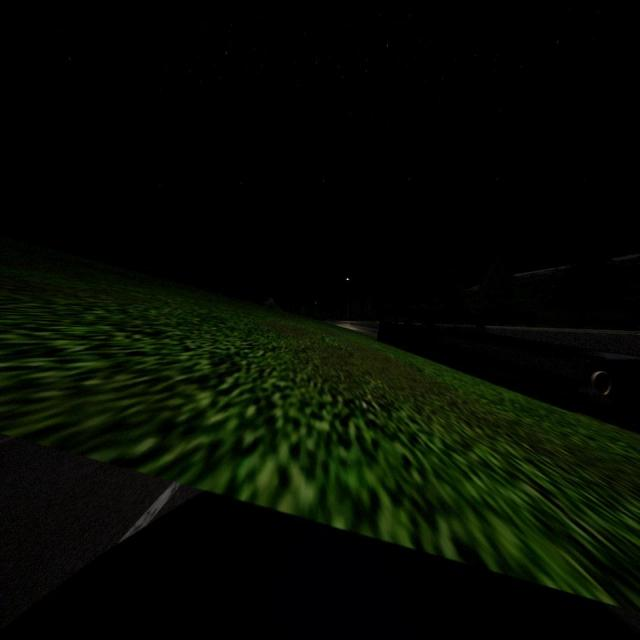Vehicle: (528, 342, 639, 431)
